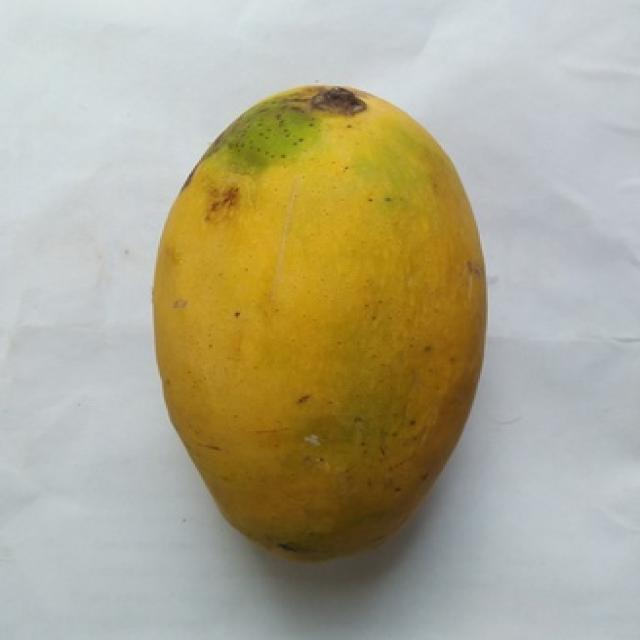Mango: (152, 86, 486, 557)
